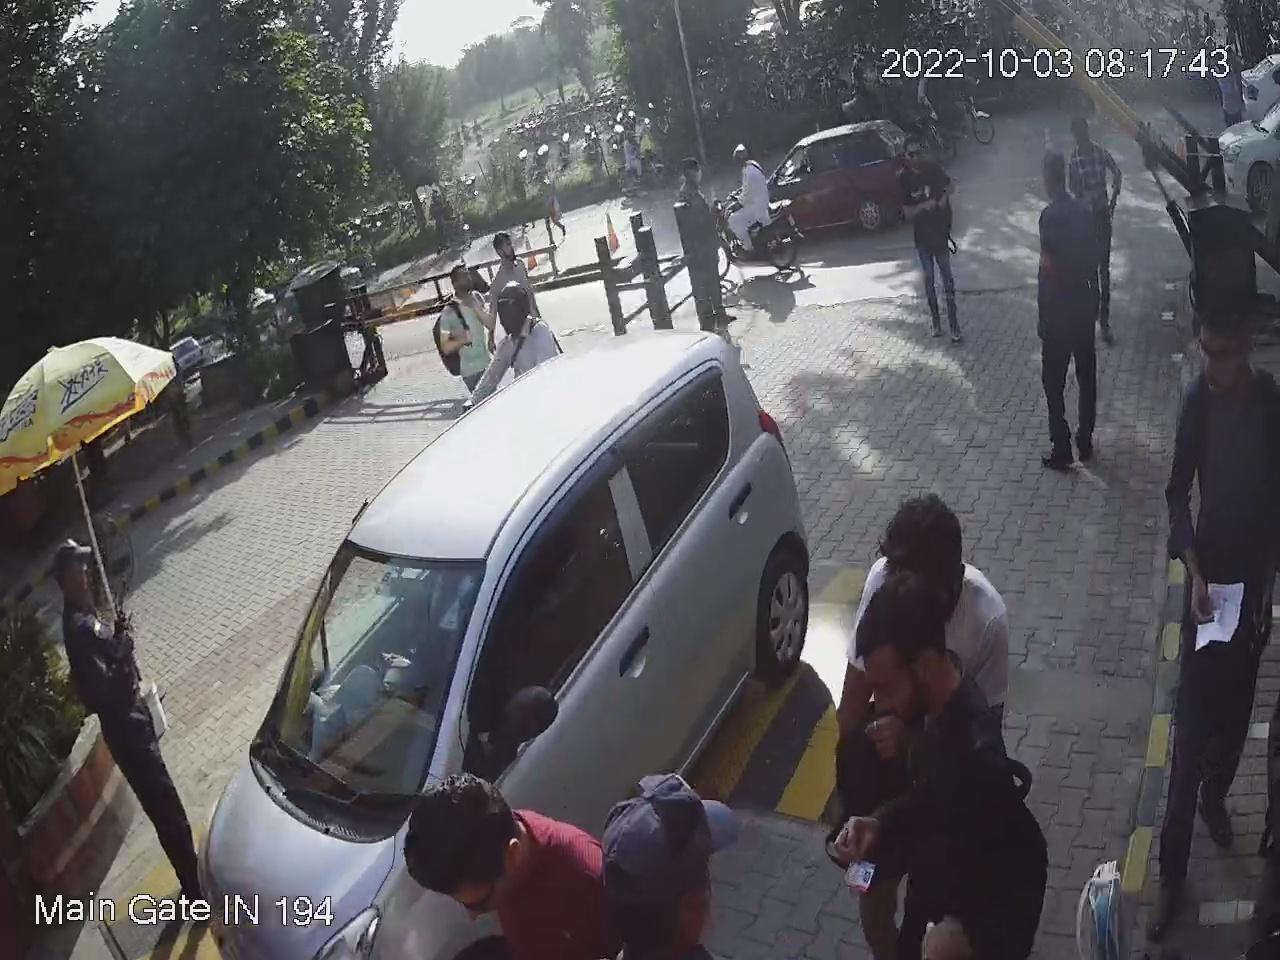windshield: (233, 530, 493, 855)
